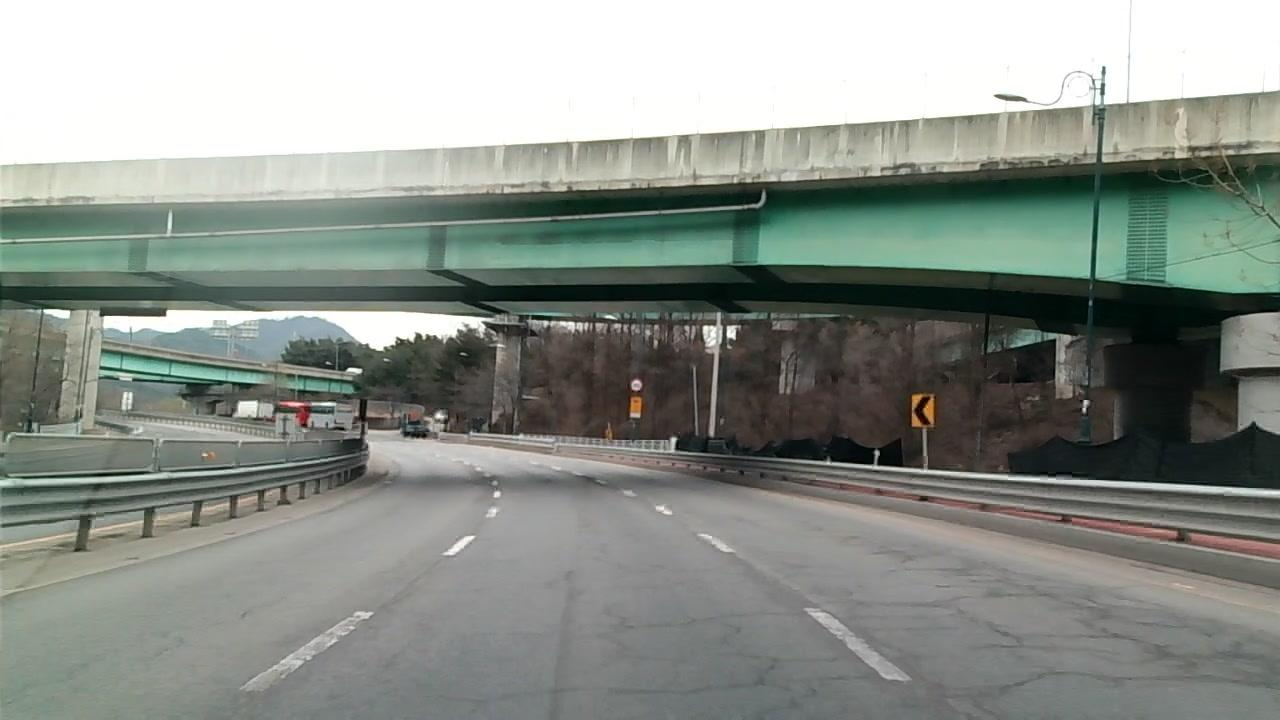hcrack: (987, 666, 1238, 691), (574, 680, 767, 697), (602, 613, 710, 631), (951, 590, 1049, 602), (1019, 631, 1123, 640)
vcrack: (875, 542, 982, 578), (380, 554, 445, 613), (718, 615, 780, 676), (1056, 586, 1103, 631)
